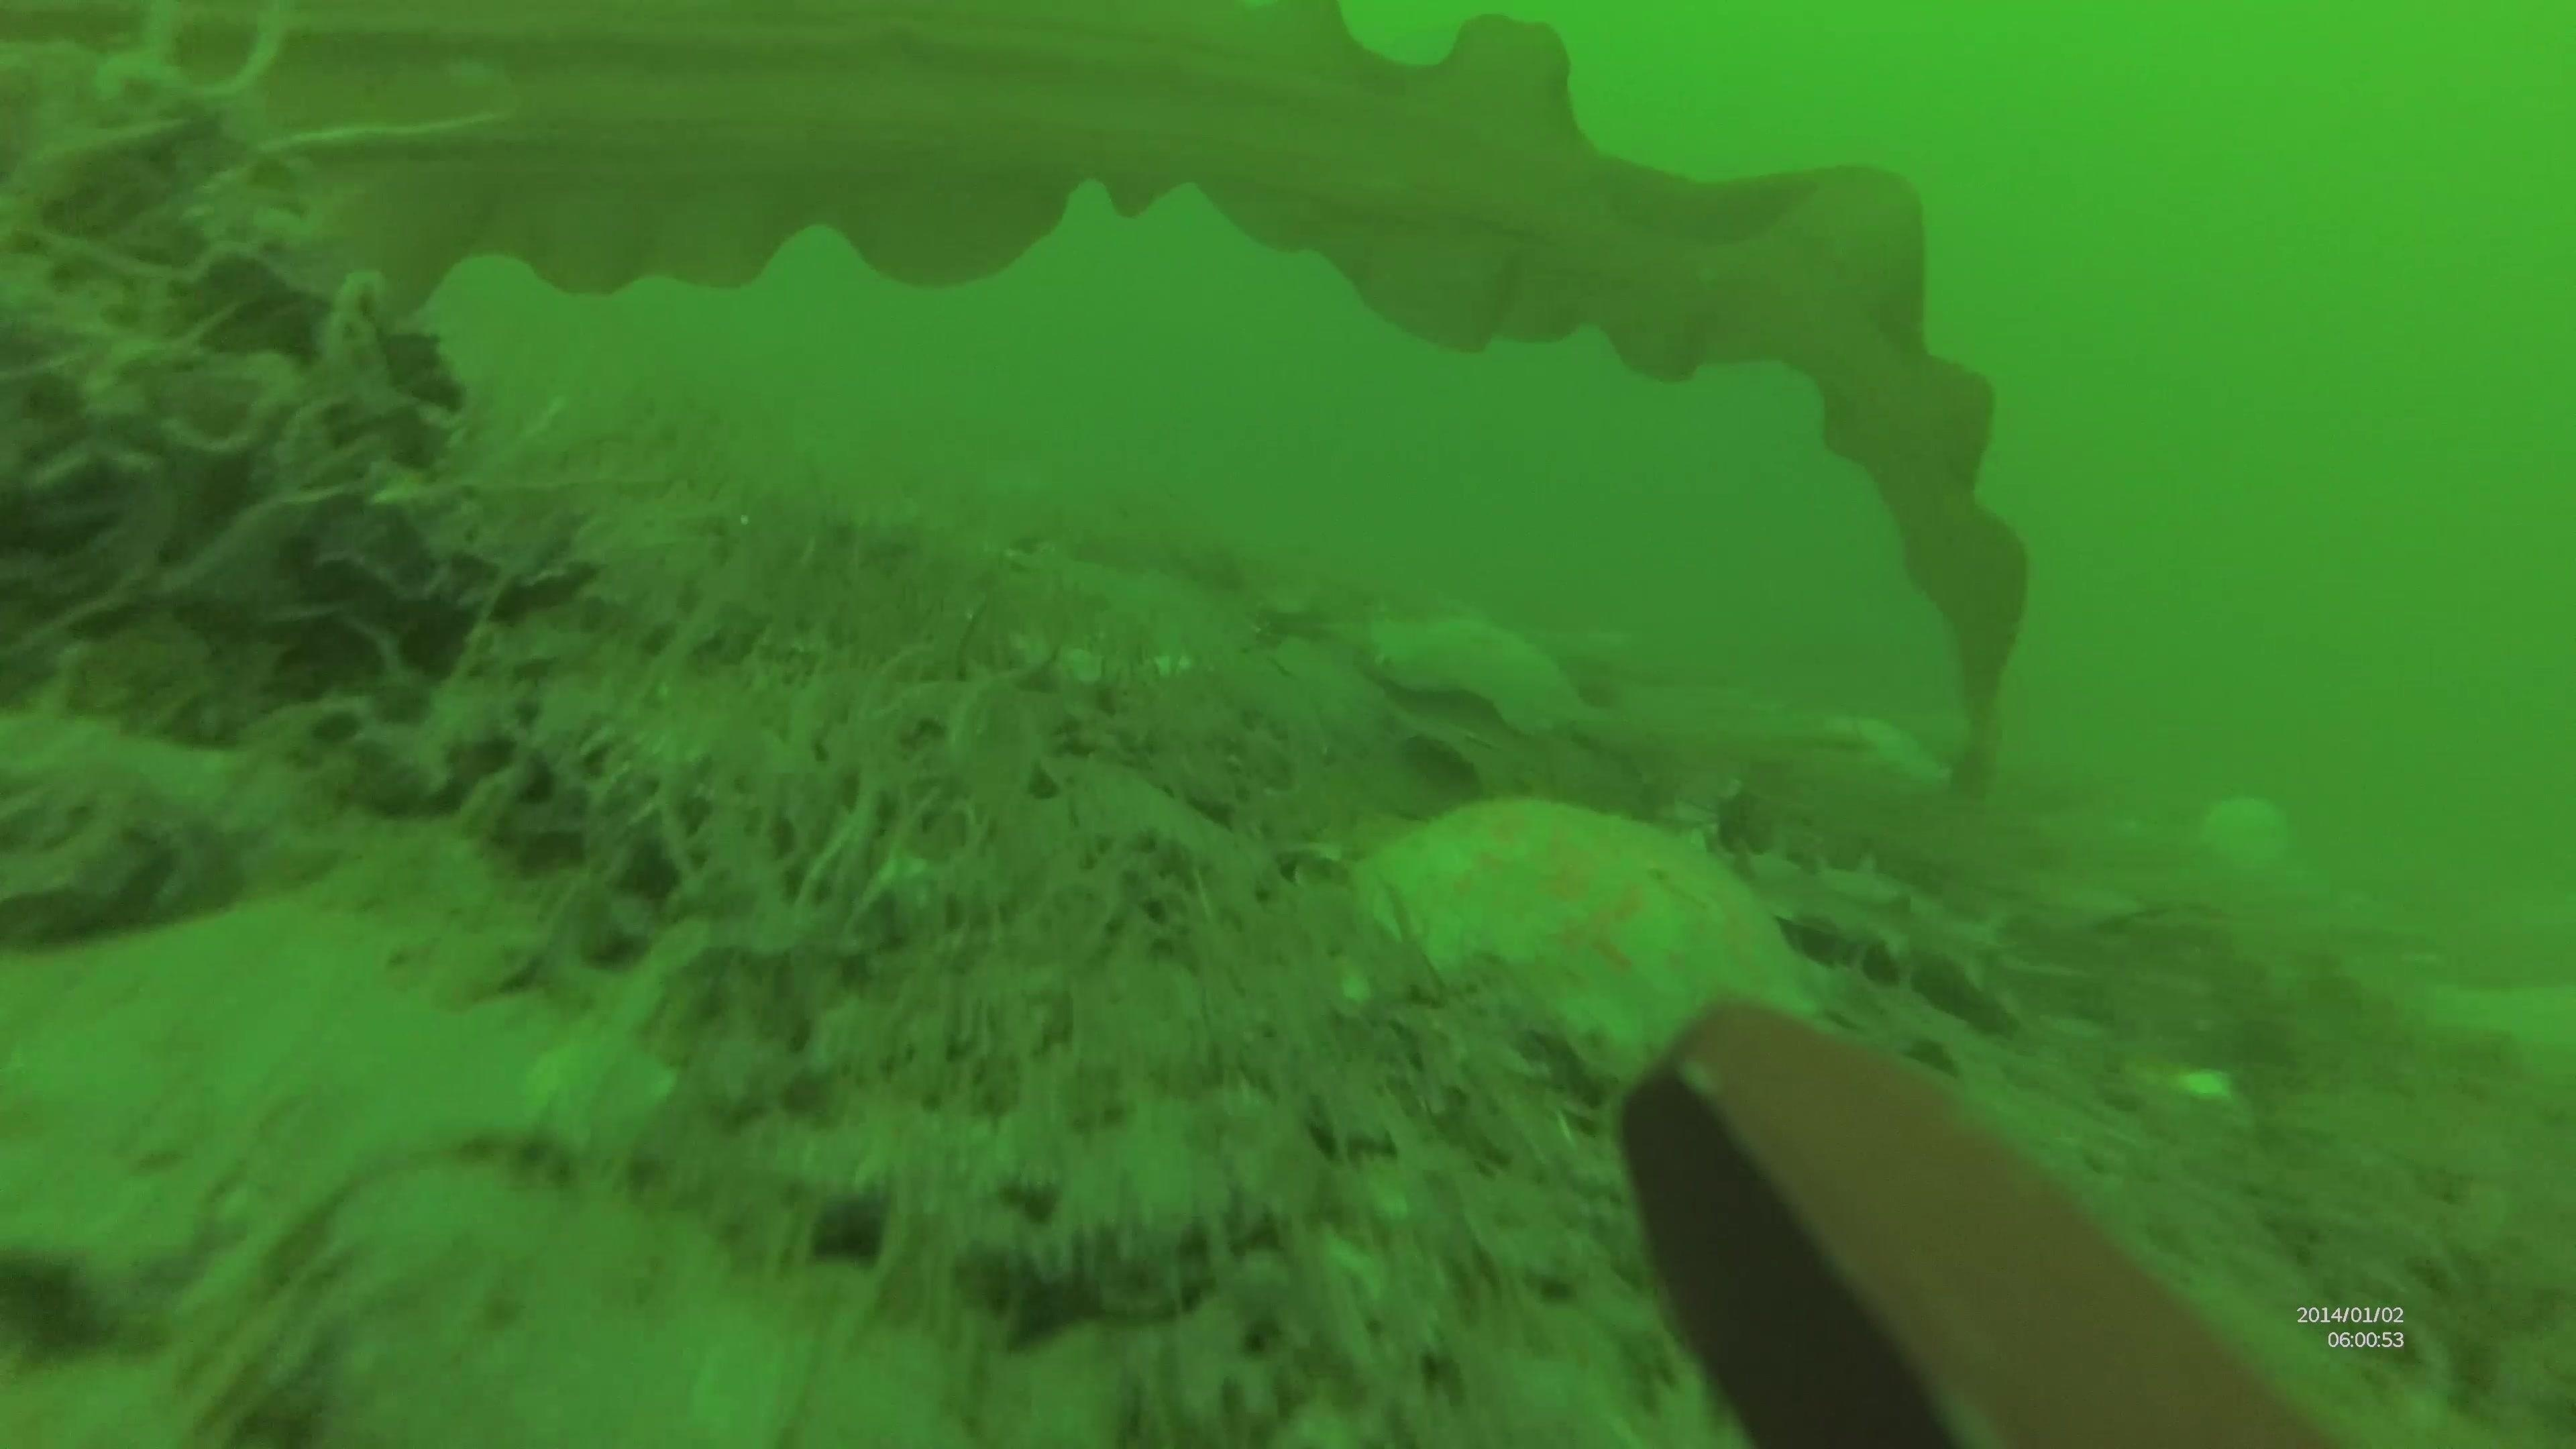holothurian: (1723, 830, 2040, 1031)
starfish: (1343, 793, 1844, 1074), (1359, 596, 1598, 747)
